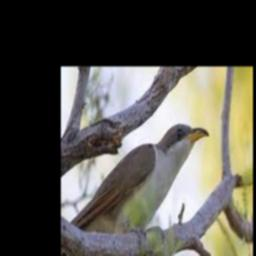Cuckoo: (68, 123, 209, 234)
